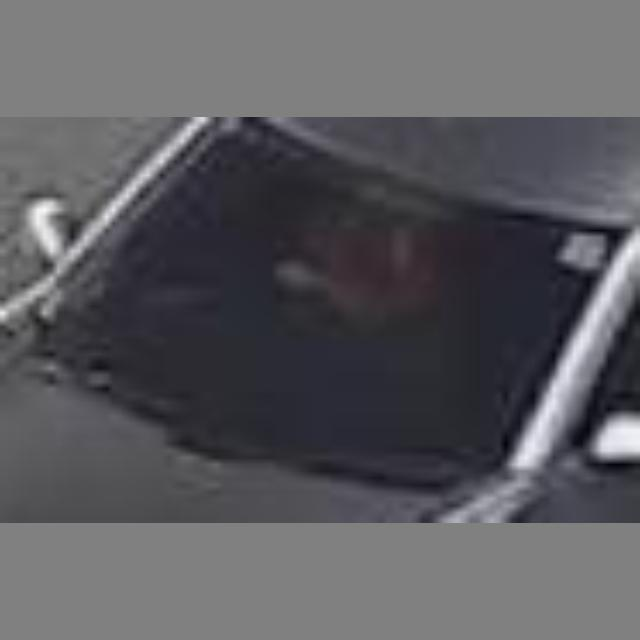tidak-pakai: (241, 193, 475, 399)
